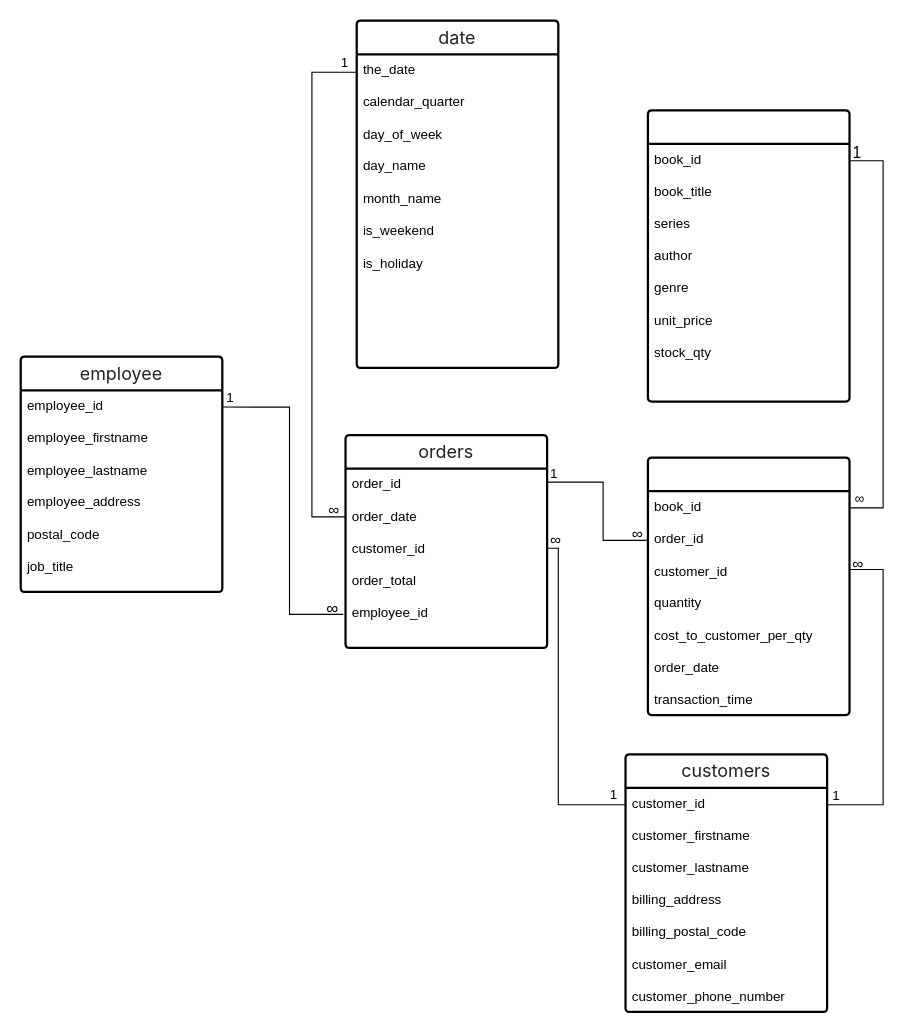
Some shapes in this 904 by 1032 pixel diagram are drawn without their labels. Here are the shapes that lost their labels. From the top down, the box of each, then its label:
(646, 109, 850, 402): book_inventory
(646, 456, 850, 716): sales
